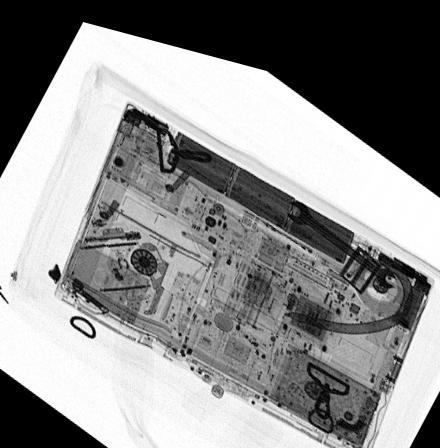Wrench: (285, 180, 397, 268)
